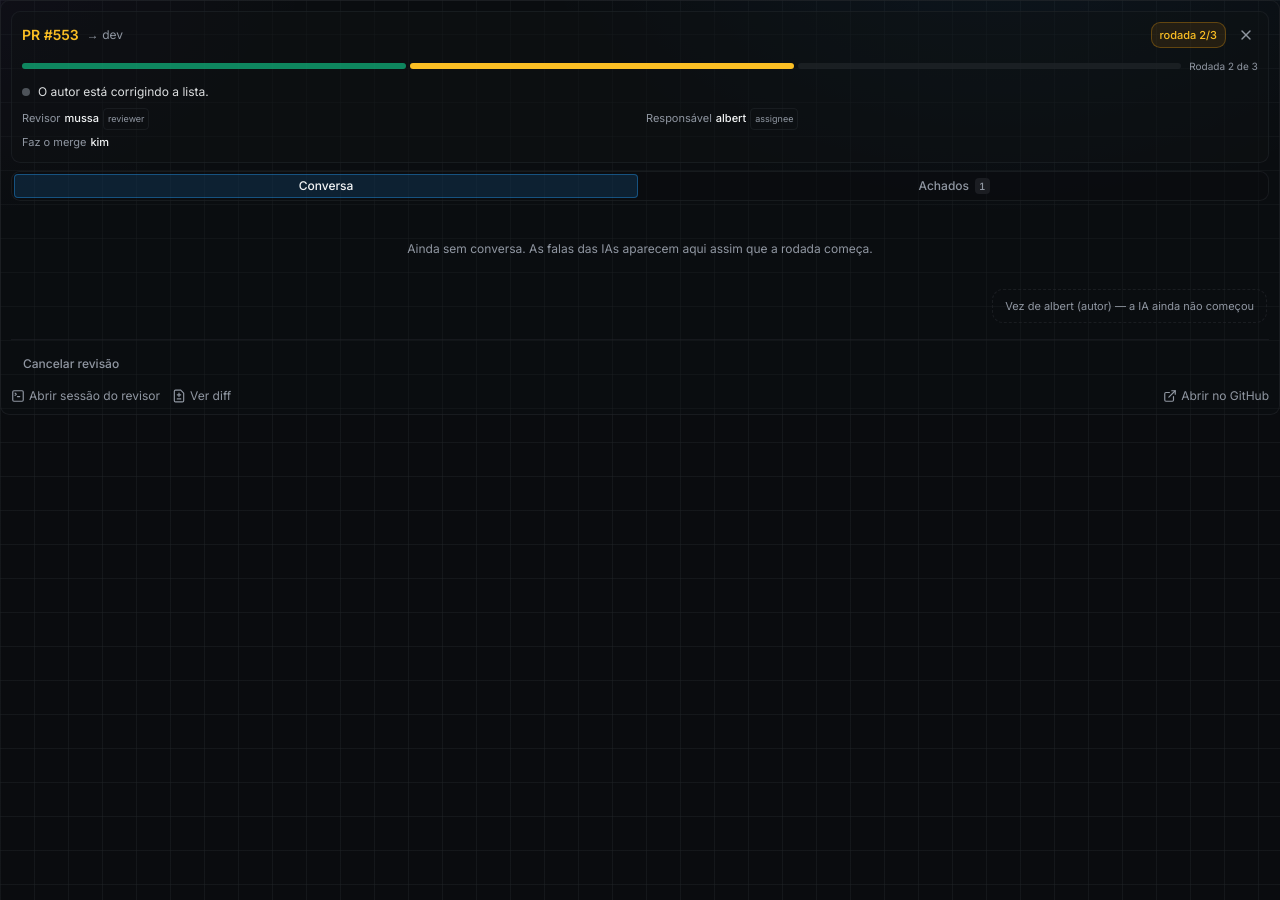
Test: ReviewPanel — o que mostra › as respostas ficam recolhidas sob a linha e abrem ao clicar
Click the tab "Achados 1" at (954, 186), box [642,174,1266,198]
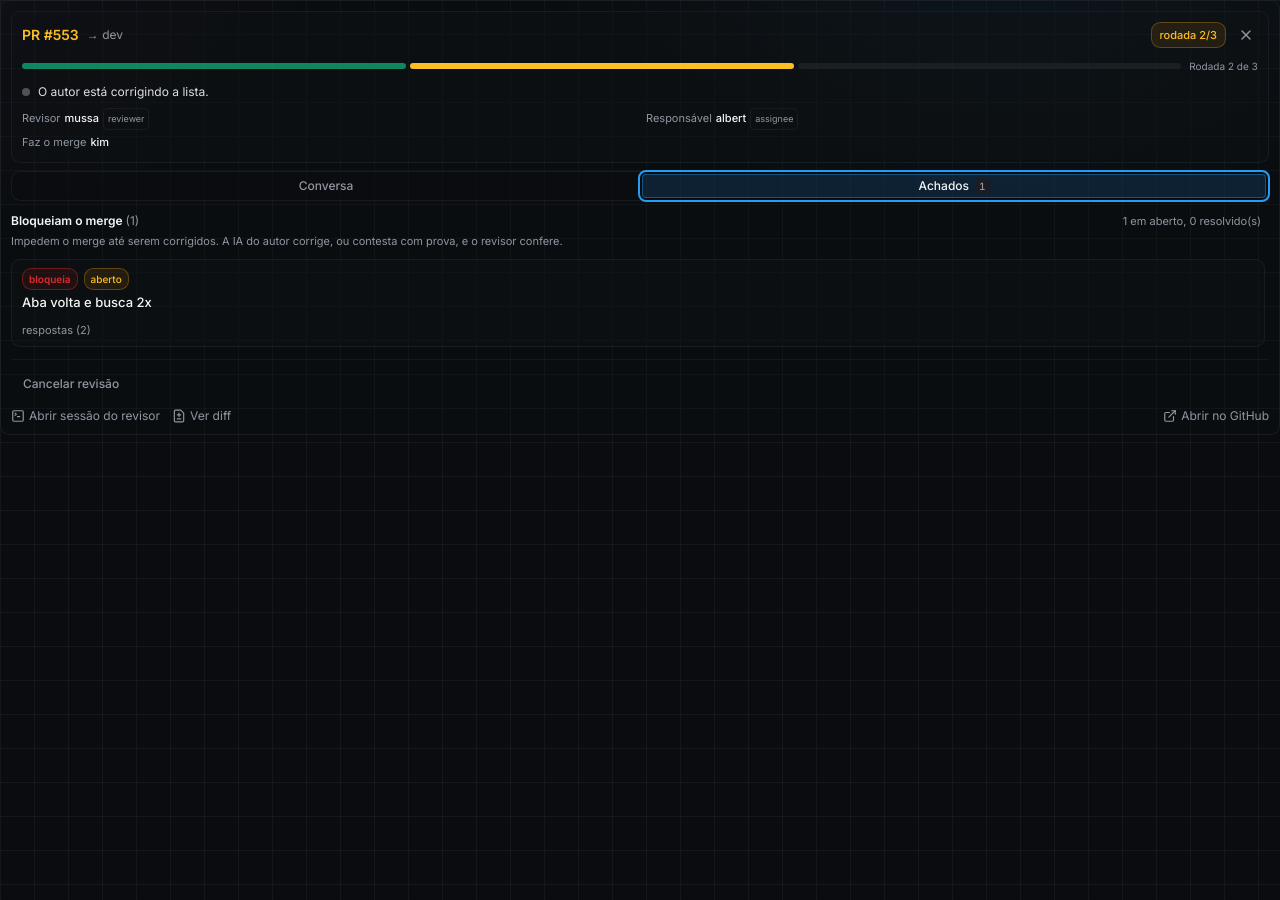
Expected: the text "Contesto: já está no padrão." is not shown
Click the button "respostas (2)" at (56, 330), box [22,322,91,338]
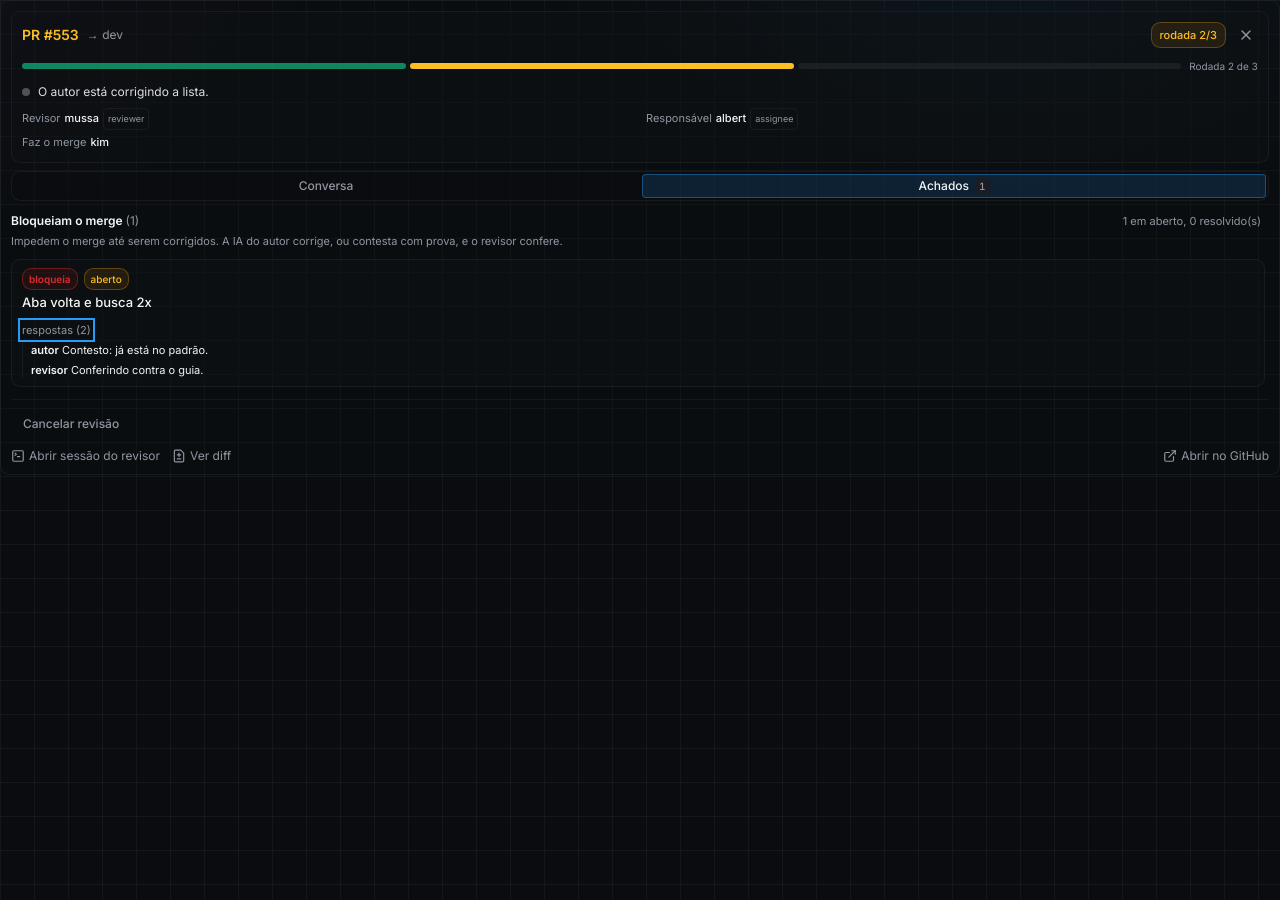
Expected: the text "Contesto: já está no padrão." is shown, [62,343,208,357]
Expected: the text "Conferindo contra o guia." is shown, [71,363,204,377]
